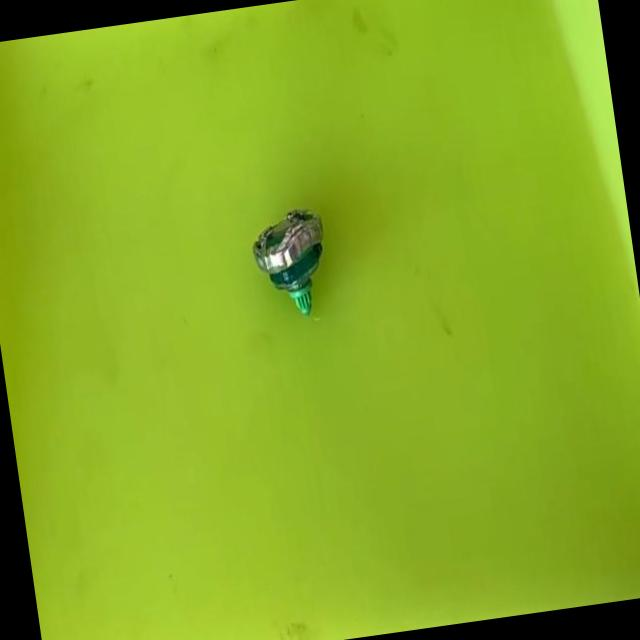Beyblade: (246, 205, 338, 325)
